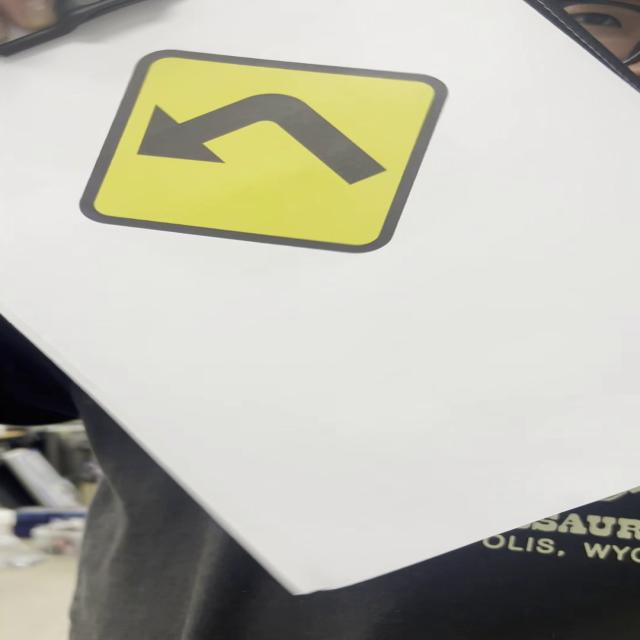left: (77, 51, 465, 256)
